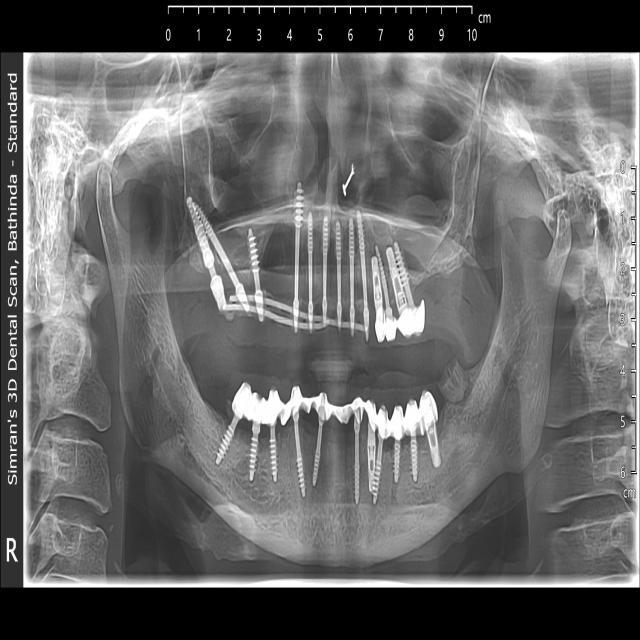Crown: (234, 383, 440, 442), (373, 299, 426, 343)
Implant: (195, 203, 254, 315), (186, 196, 230, 311), (216, 387, 251, 469), (354, 208, 370, 341), (385, 249, 408, 316), (374, 243, 394, 318), (392, 242, 414, 306), (248, 231, 263, 323), (294, 183, 303, 331), (290, 420, 306, 496), (372, 256, 384, 340), (311, 416, 324, 488), (371, 436, 384, 503), (307, 211, 314, 333), (348, 214, 355, 335), (423, 427, 443, 469), (322, 212, 329, 322), (336, 220, 343, 328), (248, 424, 260, 485), (368, 423, 376, 494), (409, 427, 418, 483), (354, 419, 360, 501), (270, 427, 277, 483), (393, 438, 400, 485)
Root Canal Treatment: (438, 359, 468, 405)
